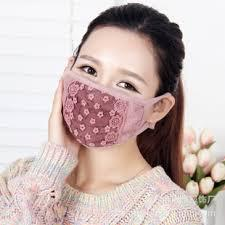OK: (66, 50, 163, 147)
